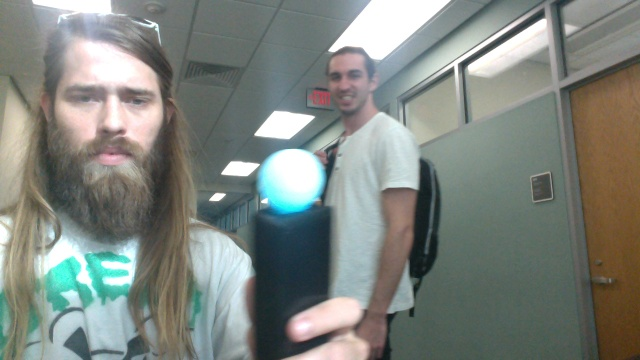wand: (260, 150, 325, 213)
